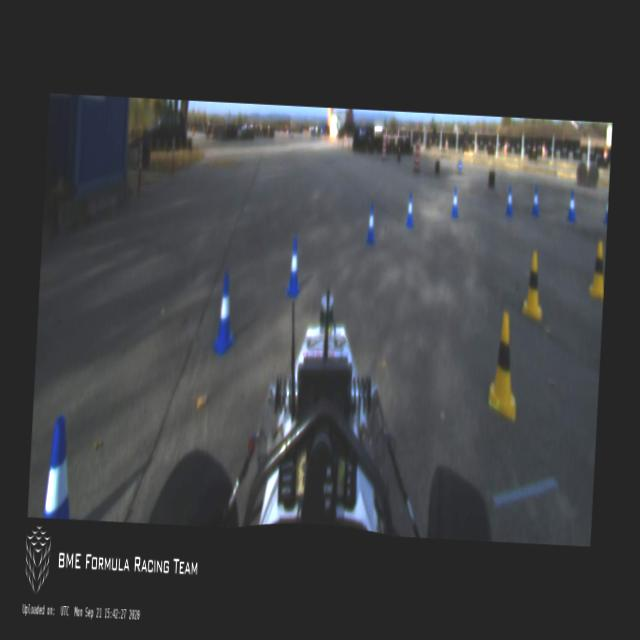blue_cone: (44, 415, 76, 519), (211, 268, 239, 357), (285, 237, 303, 296), (364, 202, 378, 243), (404, 193, 416, 227), (566, 189, 578, 222), (530, 184, 540, 216), (504, 186, 514, 217), (450, 188, 460, 217), (603, 193, 608, 226)
yellow_cone: (487, 314, 521, 416), (520, 249, 546, 324), (588, 238, 606, 302)
